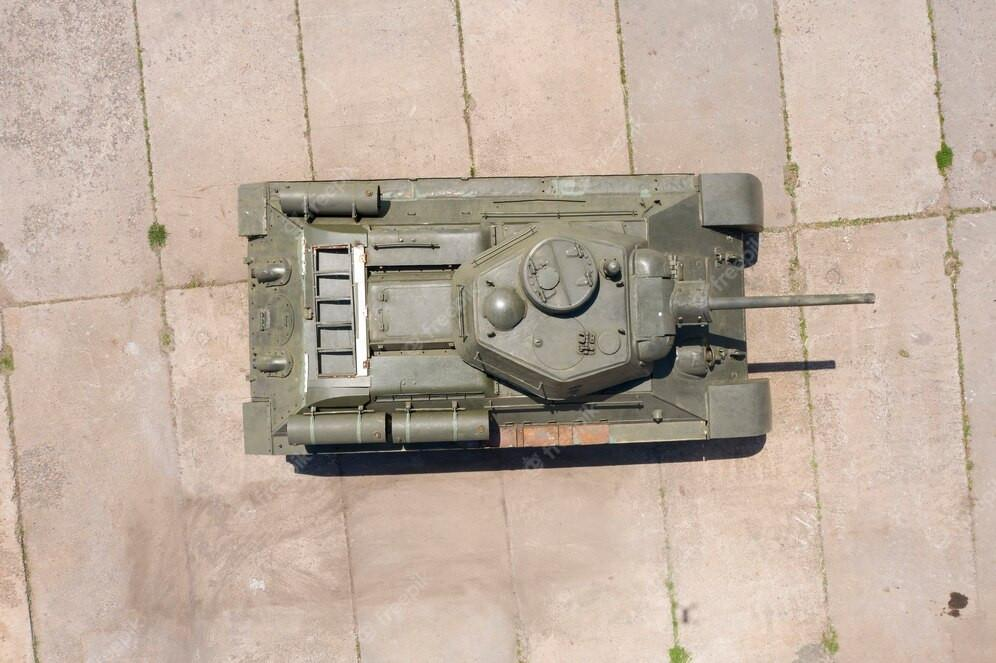tank: (228, 173, 879, 457)
